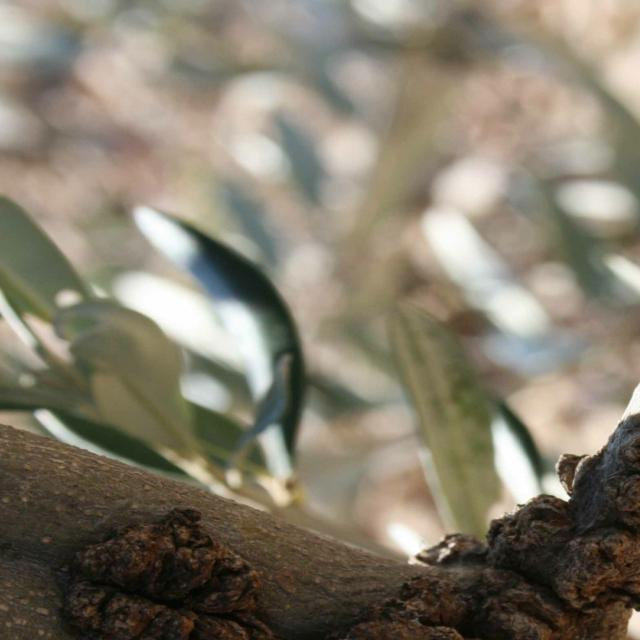Tuberculosis: (331, 412, 639, 640), (63, 509, 274, 640)
